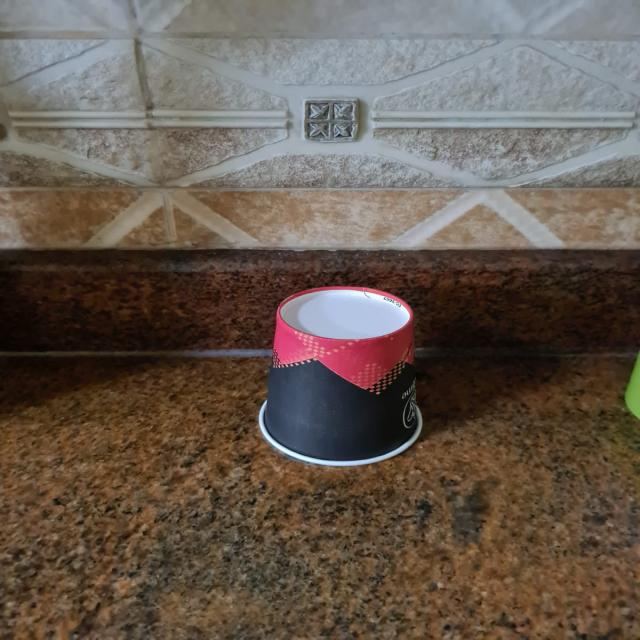cups: (256, 284, 426, 463)
